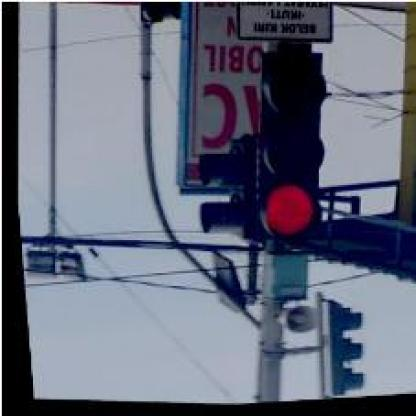red: (239, 48, 329, 246)
